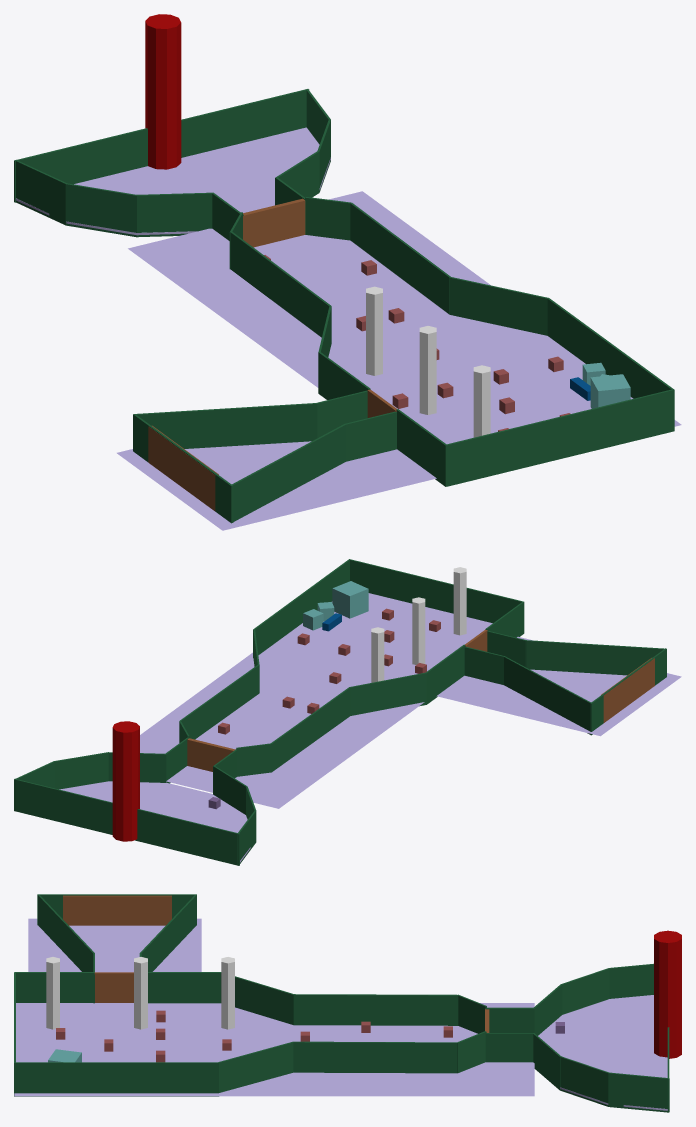
The model's file is LVL2_BLOCKOUT_PART2.fbx.
The picture shows the model from 3 angles, top to bottom: view 1: azimuth 30°, elevation 25°; view 2: azimuth 150°, elevation 25°; view 3: azimuth 270°, elevation 25°; orthographic projection. The views are drawn at different scales.
Visible parts, largest first — view 1: BLOCK_Room5_Floor, BLOCK_Room5_Wall12, BLOCK_Room6_Floor, BLOCK_Room4_Floor, BLOCK_Room5_Wall31, BLOCK_Room5_Wall18, BLOCK_Room4_Elevator, BLOCK_Room5_Wall17, BLOCK_Room5_Wall1, BLOCK_Room5_Wall11, BLOCK_Room5_Wall8, BLOCK_Room5_Wall2 (+18 smaller); view 2: BLOCK_Room5_Floor, BLOCK_Room5_Wall31, BLOCK_Room6_Floor, BLOCK_Room5_Wall12, BLOCK_Room4_Floor, BLOCK_Room5_Wall17, BLOCK_Room4_Elevator, BLOCK_Room5_Wall18, BLOCK_Room5_Wall11, BLOCK_Room5_Wall2, BLOCK_Room5_Wall20, BLOCK_Room5_Wall1 (+18 smaller); view 3: BLOCK_Room5_Floor, BLOCK_Room4_Floor, BLOCK_Room5_Wall11, BLOCK_Room6_Floor, BLOCK_Room5_Wall2, BLOCK_Room5_Wall1, BLOCK_Room4_Elevator, Door3, BLOCK_Room5_Wall8, BLOCK_Room5_Wall13, BLOCK_Room5_Wall24, BLOCK_Room5_Wall21 (+18 smaller).
Boxes of the visible parts, x1,y1,x2,y2 form: BLOCK_Room5_Floor: (128,191,681,444); BLOCK_Room5_Wall12: (446,389,674,486); BLOCK_Room6_Floor: (117,441,436,530); BLOCK_Room4_Floor: (15,127,330,235); BLOCK_Room5_Wall31: (14,89,309,202); BLOCK_Room5_Wall18: (136,403,317,448); BLOCK_Room4_Elevator: (145,14,181,169); BLOCK_Room5_Wall17: (232,424,345,521); BLOCK_Room5_Wall1: (350,203,450,314); BLOCK_Room5_Wall11: (547,298,674,398); BLOCK_Room5_Wall8: (449,277,548,335); BLOCK_Room5_Wall2: (230,231,330,337); BLOCK_Room5_Floor: (140,593,492,808); BLOCK_Room5_Wall31: (14,779,239,865); BLOCK_Room6_Floor: (436,636,681,736); BLOCK_Room5_Wall12: (349,559,522,623); BLOCK_Room4_Floor: (59,781,250,862); BLOCK_Room5_Wall17: (525,640,664,675); BLOCK_Room4_Elevator: (112,721,139,841); BLOCK_Room5_Wall18: (504,656,590,734); BLOCK_Room5_Wall11: (253,559,349,657); BLOCK_Room5_Wall2: (270,687,350,771); BLOCK_Room5_Wall20: (349,672,426,715); BLOCK_Room5_Wall1: (180,664,259,739); BLOCK_Room5_Floor: (14,1003,534,1096); BLOCK_Room4_Floor: (538,995,667,1110); BLOCK_Room5_Wall11: (14,1062,218,1096); BLOCK_Room6_Floor: (28,918,201,972); BLOCK_Room5_Wall2: (293,994,458,1025); BLOCK_Room5_Wall1: (293,1041,457,1073); BLOCK_Room4_Elevator: (654,930,681,1058); Door3: (63,895,171,925); BLOCK_Room5_Wall8: (218,1042,293,1092); BLOCK_Room5_Wall13: (148,972,220,1003); BLOCK_Room5_Wall24: (608,1072,669,1112); BLOCK_Room5_Wall21: (14,972,94,1002).
Bounding box in the file's own units: 4844 × 1398 × 7179.
